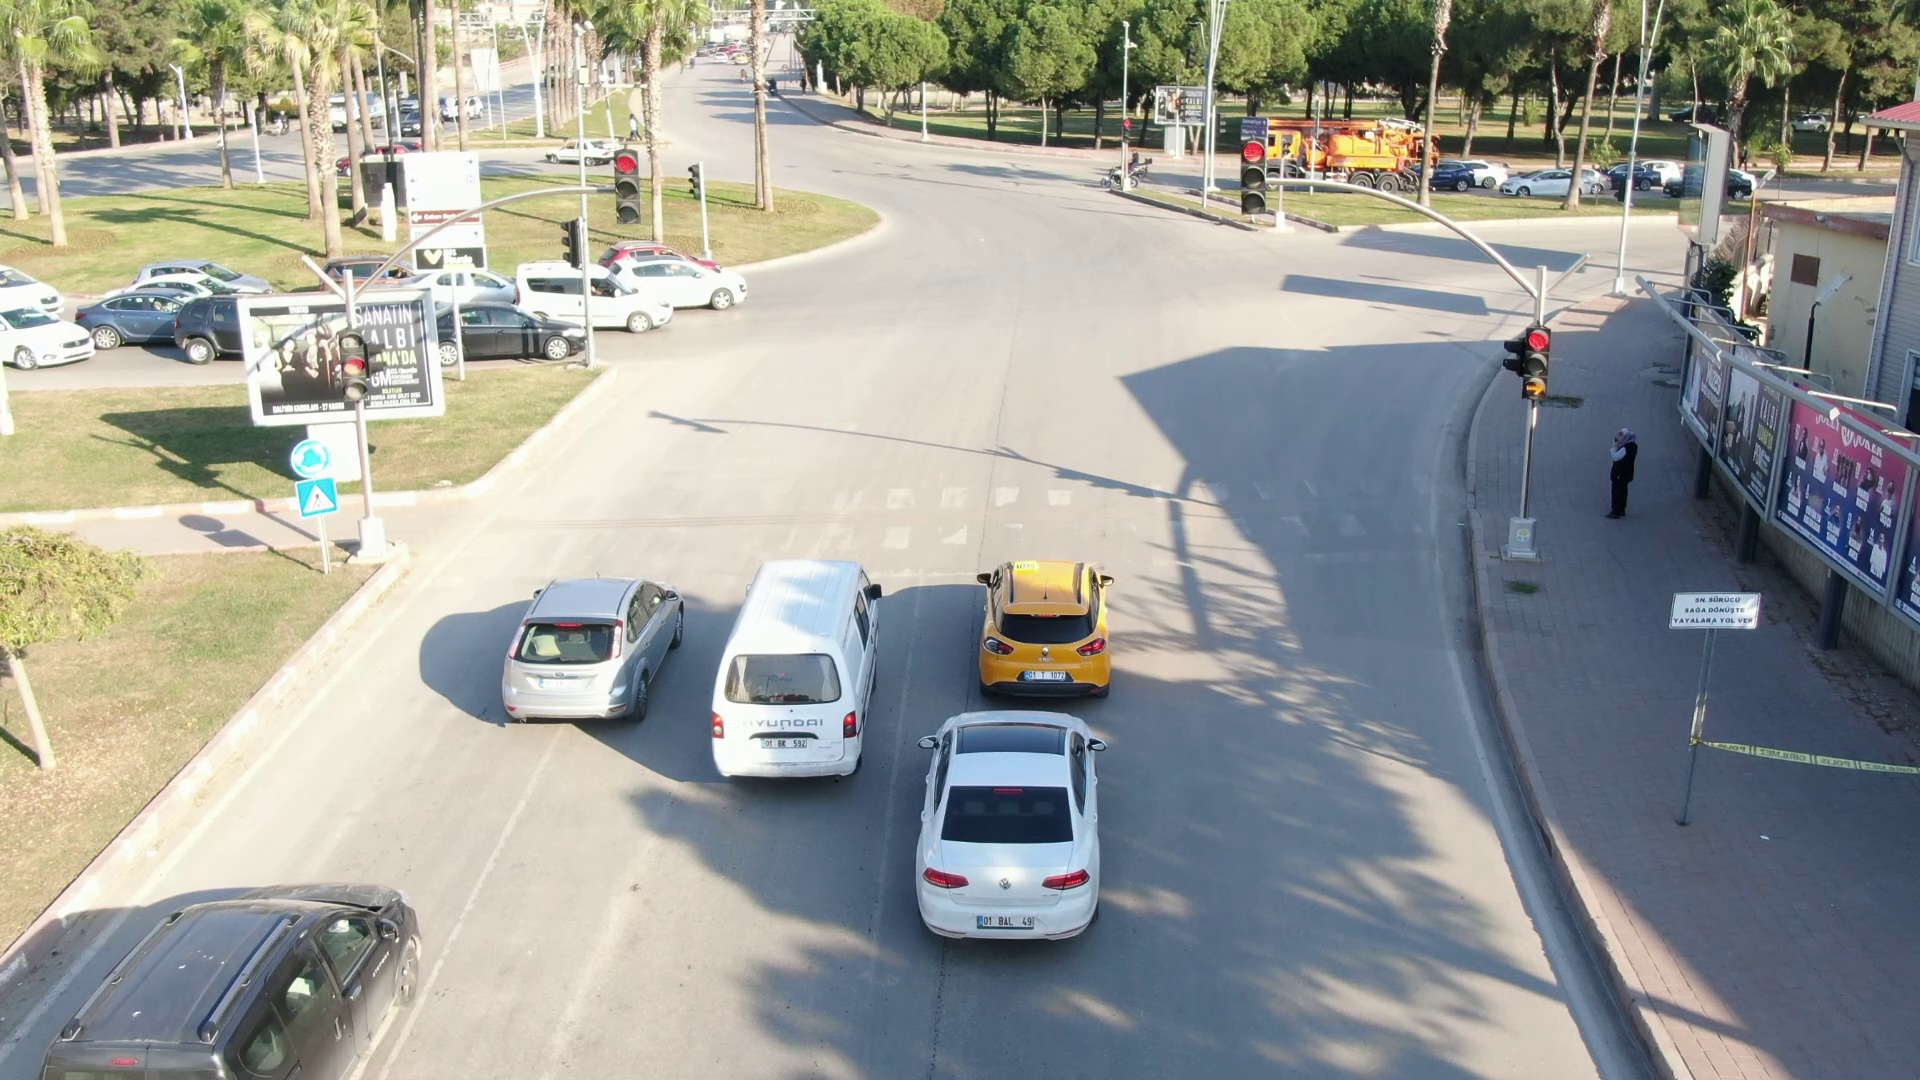car: (46, 868, 433, 1080), (892, 712, 1114, 933), (702, 559, 894, 786), (500, 561, 686, 747), (968, 547, 1129, 704)
person: (1596, 423, 1657, 533)
